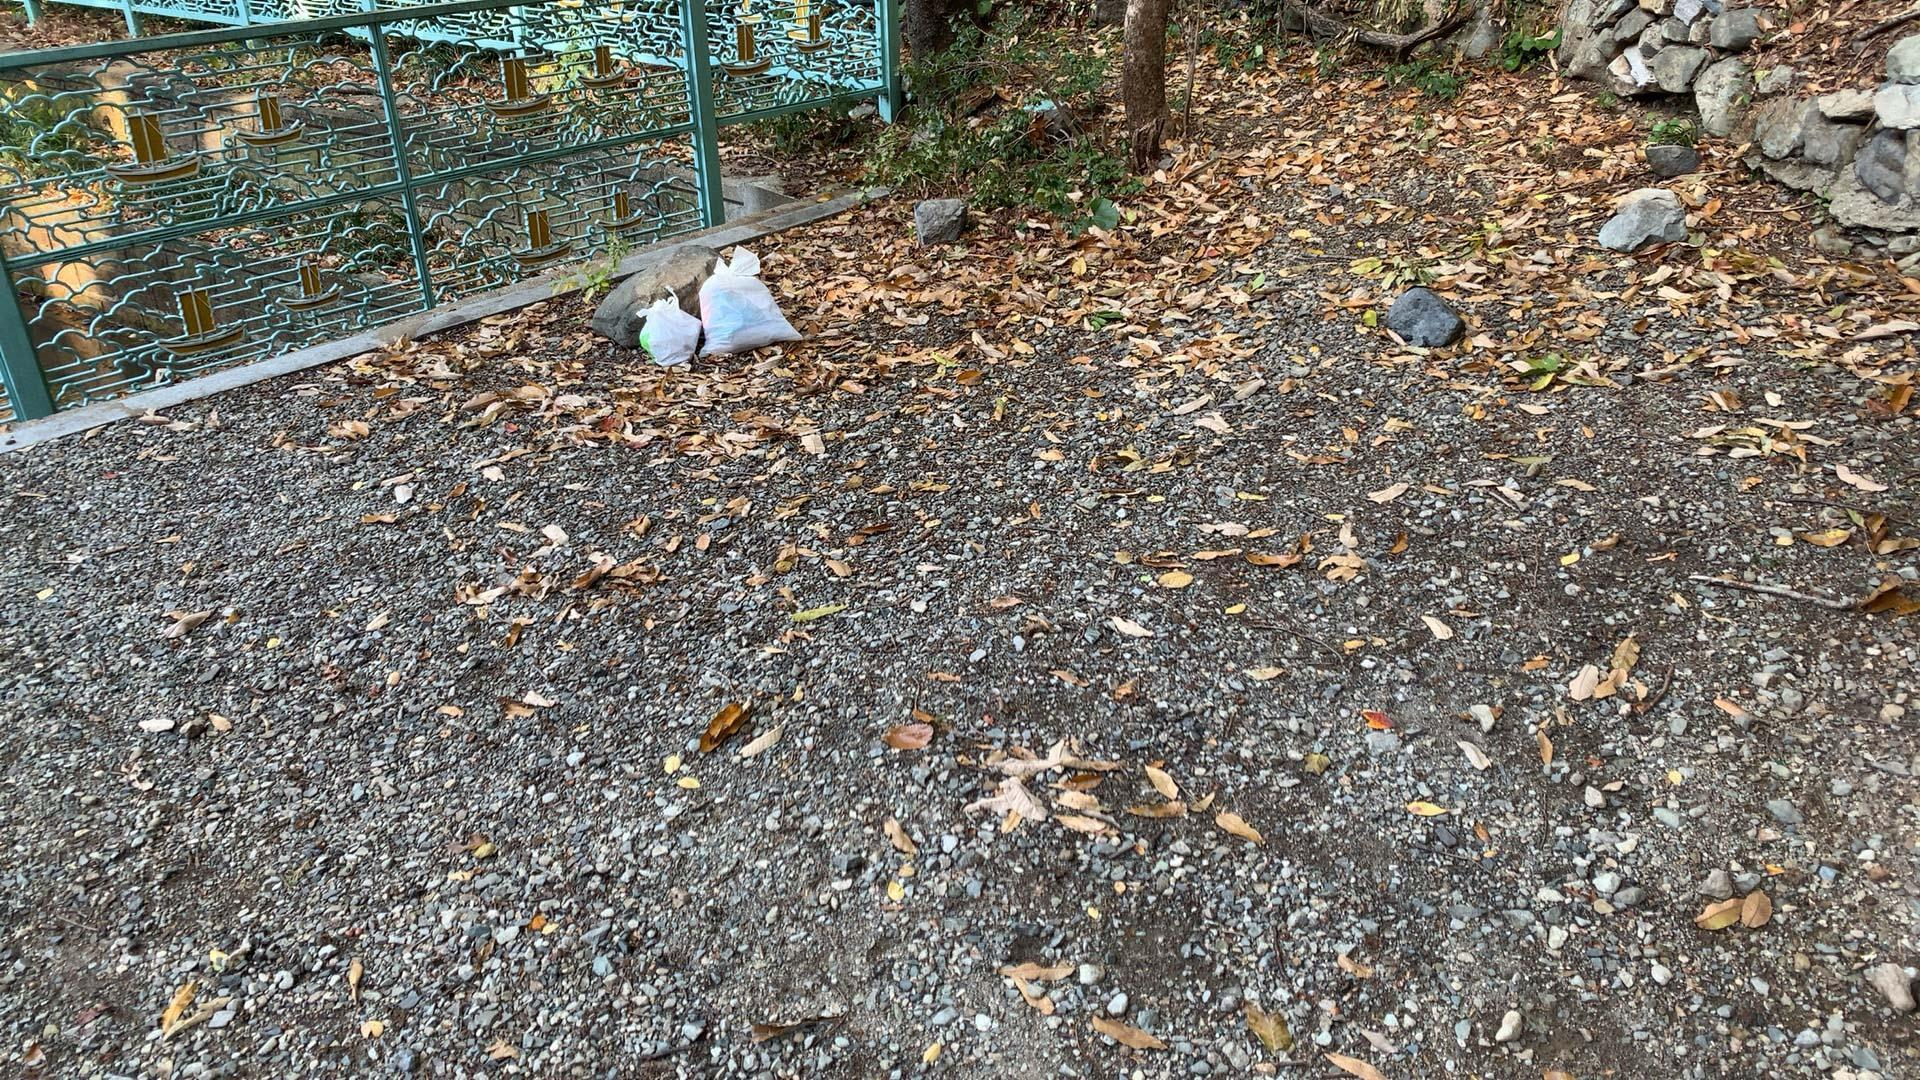white_bag: (691, 237, 806, 360), (632, 295, 703, 368)
